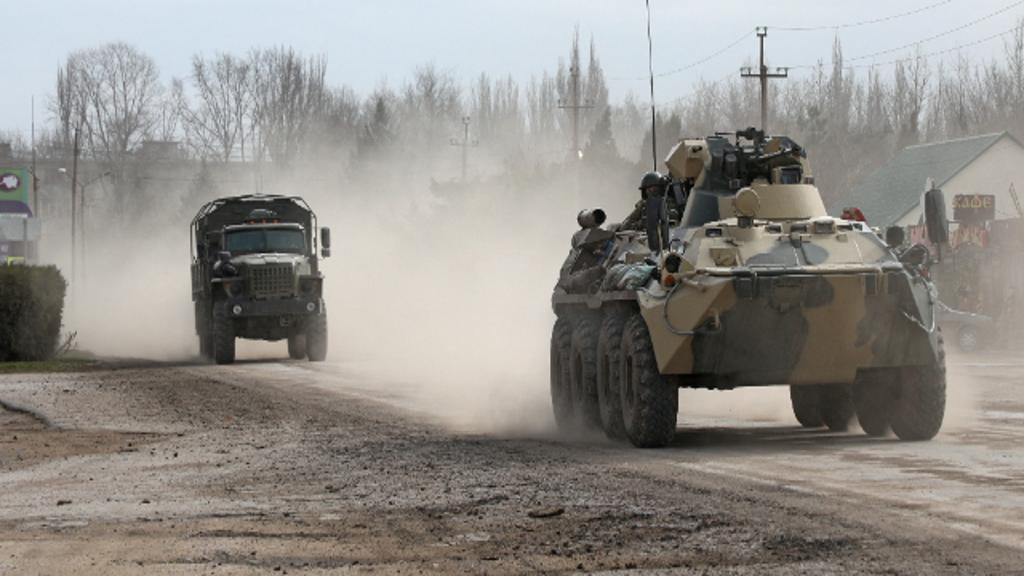APC-IFV: (548, 125, 953, 443)
TRUCK: (187, 191, 329, 362)
